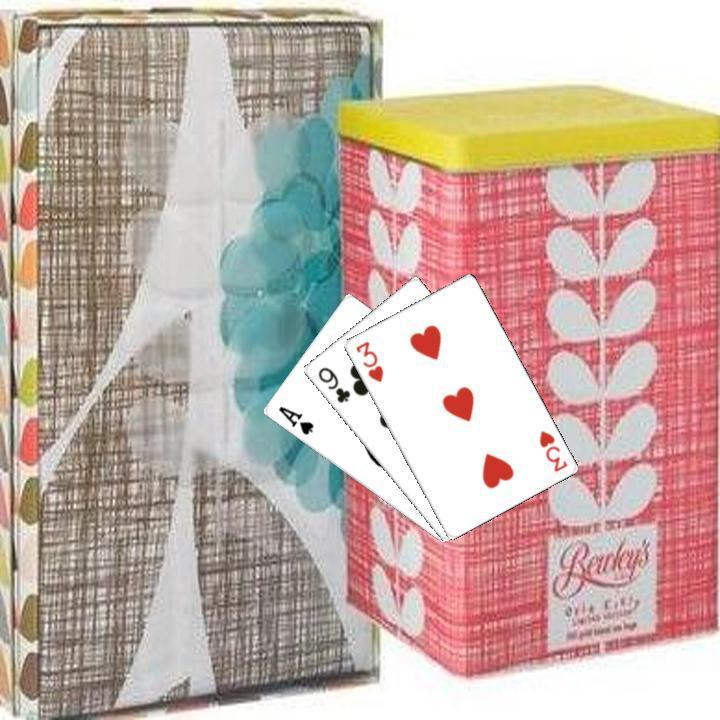3: (534, 426, 569, 474), (351, 336, 385, 384)
9: (313, 362, 352, 405)
A: (274, 402, 315, 437)
